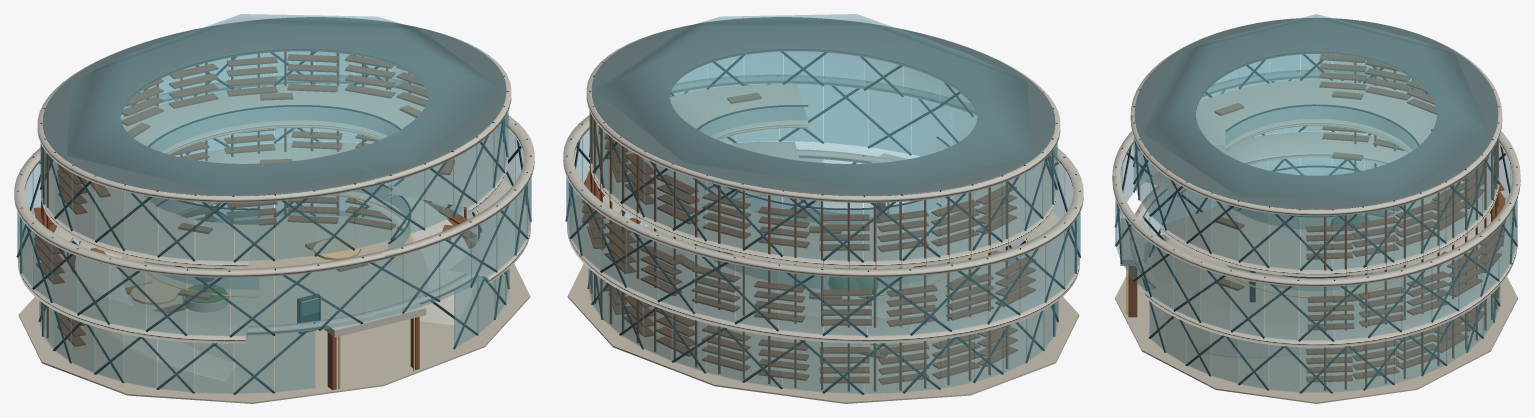
File: grand-library-far.glb
3 renders of one model, left to right at view 1: azimuth 30°, elevation 25°; view 2: azimuth 150°, elevation 25°; view 3: azimuth 270°, elevation 25°, orthographic. The views are drawn at different scales.
Bounding box in the file's own units: 28.4 × 14.5 × 23.
